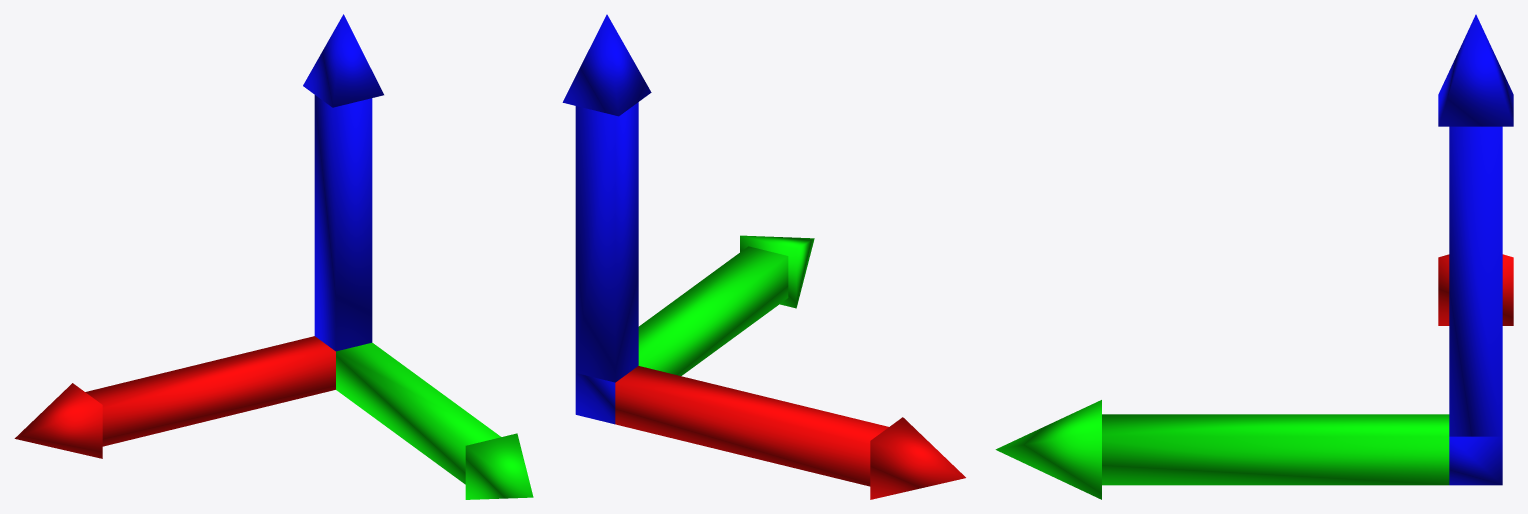
File: gris_axis.obj
3 renders of one model, left to right at view 1: azimuth 30°, elevation 25°; view 2: azimuth 150°, elevation 25°; view 3: azimuth 270°, elevation 25°, orthographic. The views are drawn at different scales.
Parts seen in each view (by area): view 1: dm_editor_axis; view 2: dm_editor_axis; view 3: dm_editor_axis.
Boxes of the visible parts, x1,y1,x2,y2 form: dm_editor_axis: (14, 14, 533, 499); dm_editor_axis: (562, 14, 965, 499); dm_editor_axis: (995, 14, 1513, 499).
Bounding box in the file's own units: 0.493 × 0.4929 × 0.4929.
